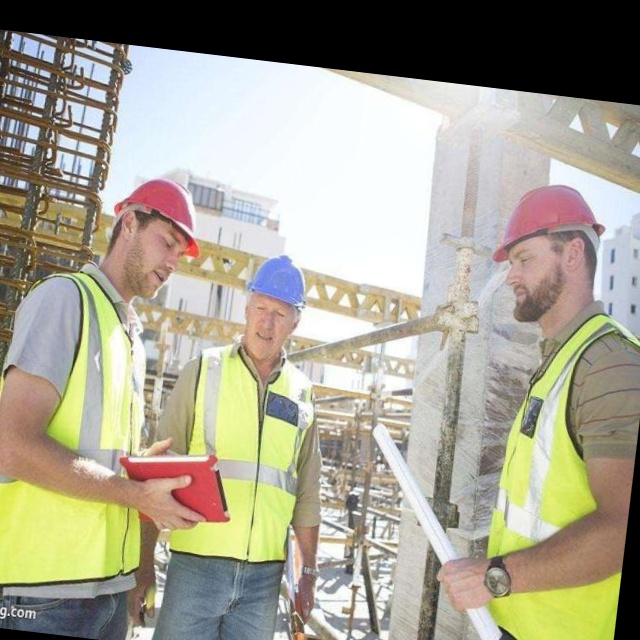Con_Casco: (238, 253, 311, 360)
Con_Chaleco: (0, 266, 177, 599), (169, 343, 318, 568)
